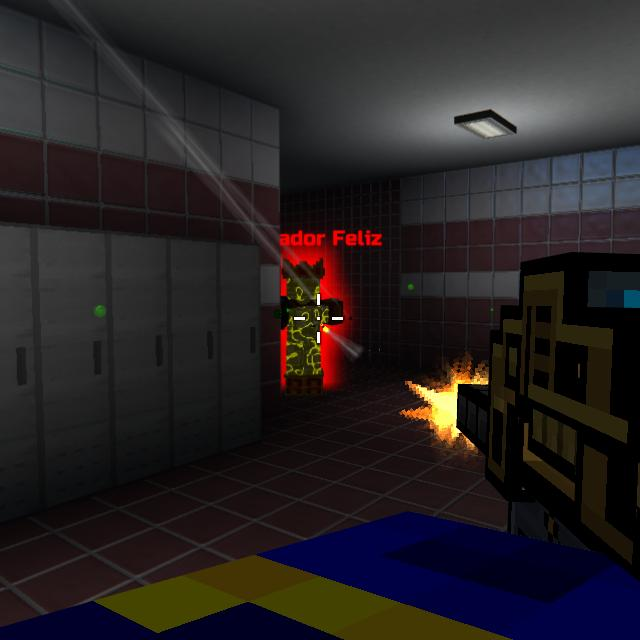Enemy: (278, 265, 343, 396)
